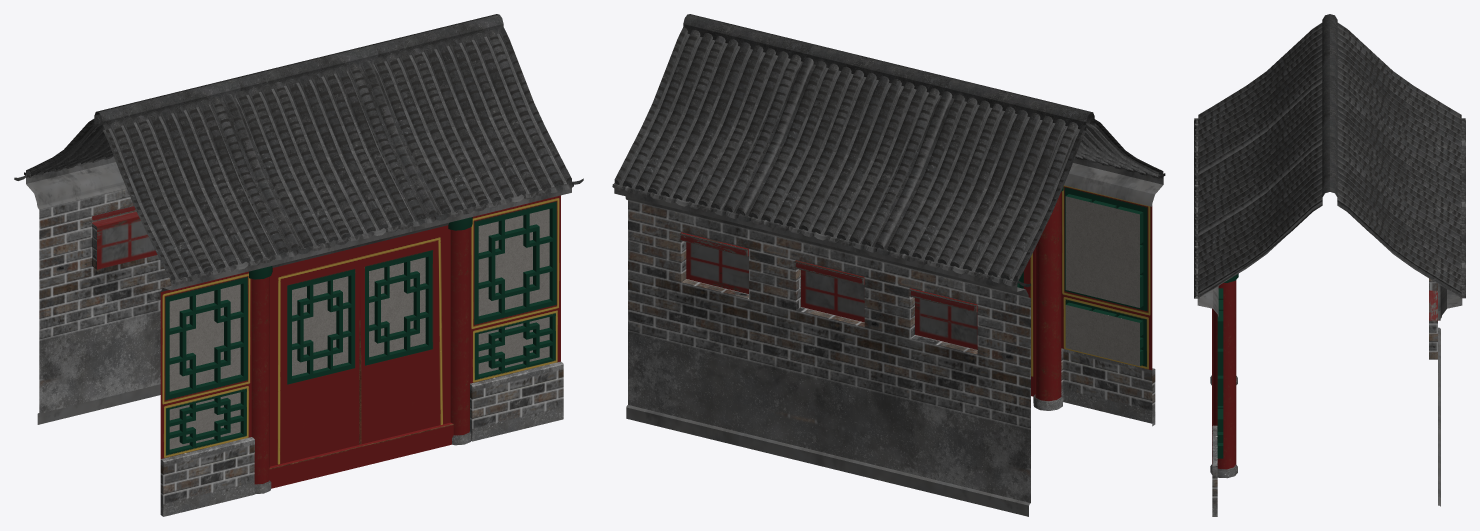
The model's file is hutong_house_side_a.fbx.
3 renders of one model, left to right at view 1: azimuth 30°, elevation 25°; view 2: azimuth 150°, elevation 25°; view 3: azimuth 270°, elevation 25°, orthographic. The views are drawn at different scales.
Parts seen in each view (by area): view 1: hutong_house_side_a; view 2: hutong_house_side_a; view 3: hutong_house_side_a.
Part boxes in pixels (x1,y1,x2,y2): hutong_house_side_a: [14, 14, 583, 516]; hutong_house_side_a: [612, 14, 1165, 516]; hutong_house_side_a: [1194, 14, 1465, 516].
Size of the model in its own units: 510 by 409 by 310.
3 materials, 3 textured.
